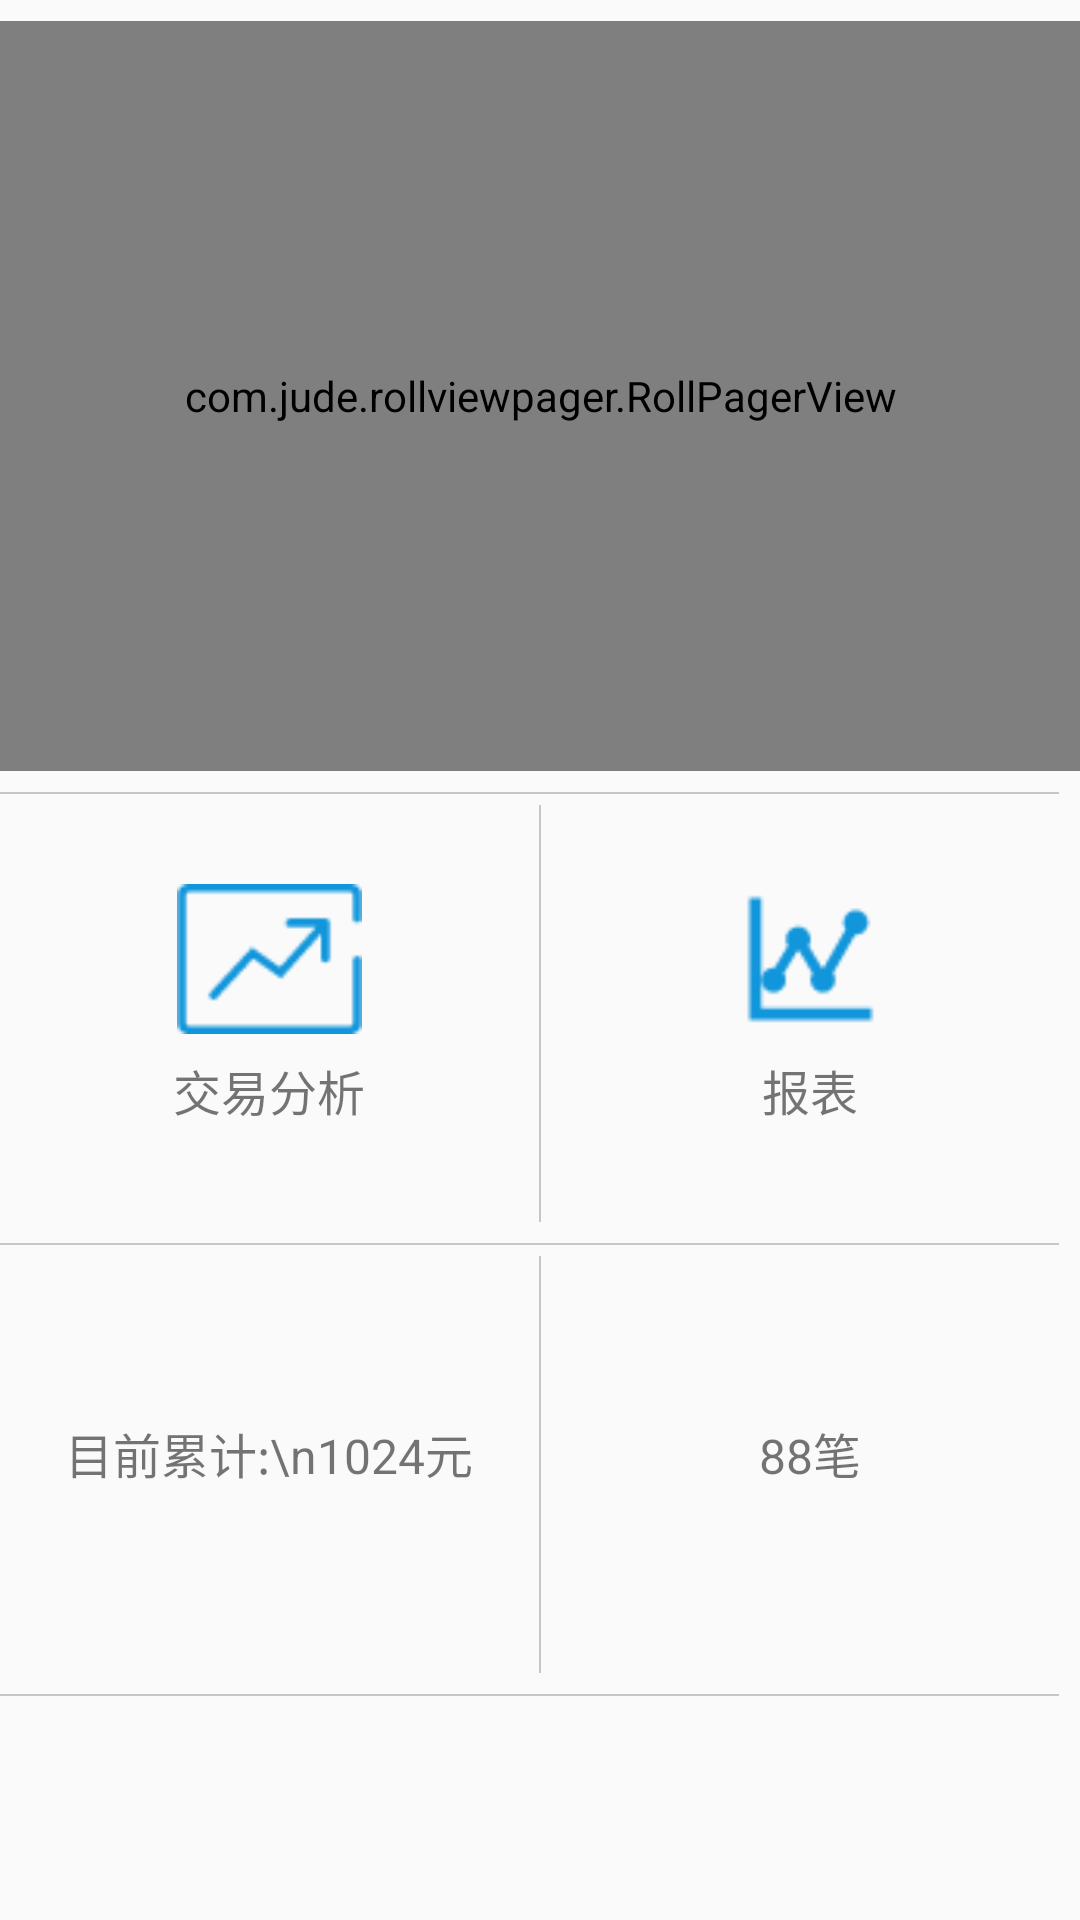

Screen size 1080x1920. Icon name, then its center in pixels as (x=x, y=y):
linechart: (x=269, y=959), (x=810, y=959)
